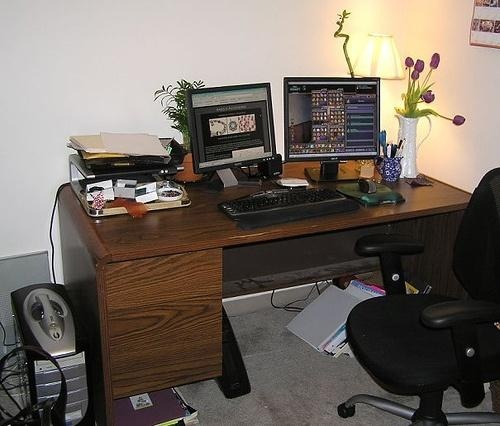chair: (342, 168, 500, 426)
pottedplant: (159, 79, 208, 181)
tvmonitor: (286, 77, 383, 185), (187, 82, 277, 190)
